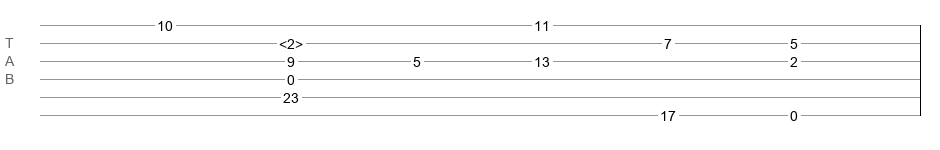0: (287, 72, 295, 82), (790, 108, 798, 118)
10: (157, 18, 173, 28)
11: (534, 18, 550, 28)
13: (534, 54, 550, 64)
17: (660, 108, 676, 118)
2: (790, 54, 798, 64)
23: (283, 90, 299, 100)
5: (413, 54, 421, 64), (790, 36, 798, 46)
7: (664, 36, 672, 46)
9: (287, 54, 295, 64)
harmonic: (279, 36, 303, 46)
